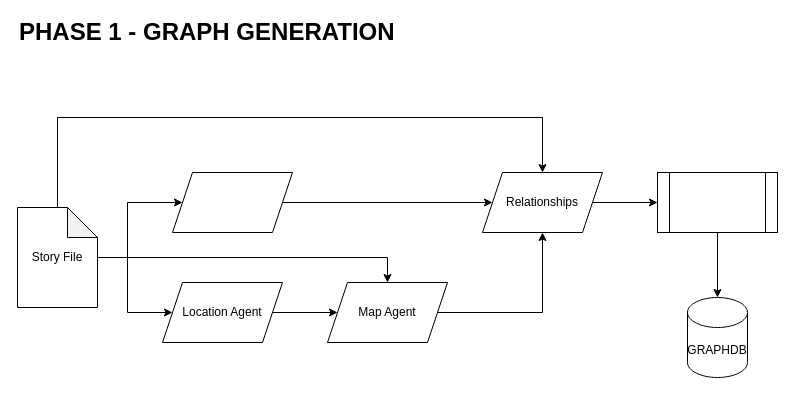
Some shapes in this 795 by 395 pixel diagram are drawn without their labels. Each missing label, with the box of its shape:
GRAPH CREATOR: (656, 172, 778, 232)
NER Agent: (172, 172, 292, 232)
